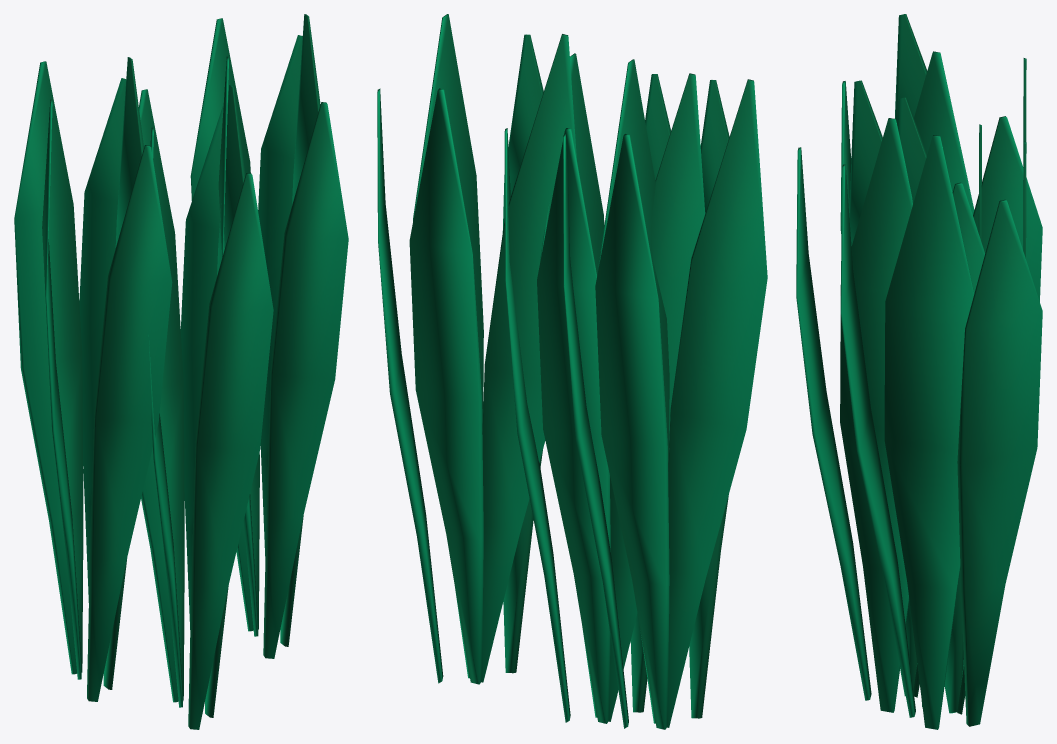
Rendered from verdura.fbx.
3 renders of one model, left to right at view 1: azimuth 30°, elevation 25°; view 2: azimuth 150°, elevation 25°; view 3: azimuth 270°, elevation 25°, orthographic. The views are drawn at different scales.
Visible parts, largest first — view 1: Plane.008; view 2: Plane.008; view 3: Plane.008.
Boxes of the visible parts, x1,y1,x2,y2 form: Plane.008: (14,14,348,729); Plane.008: (377,14,767,729); Plane.008: (796,14,1042,729).
Size of the model in its own units: 31.69 by 60.53 by 21.33.
1 material, 1 textured.
